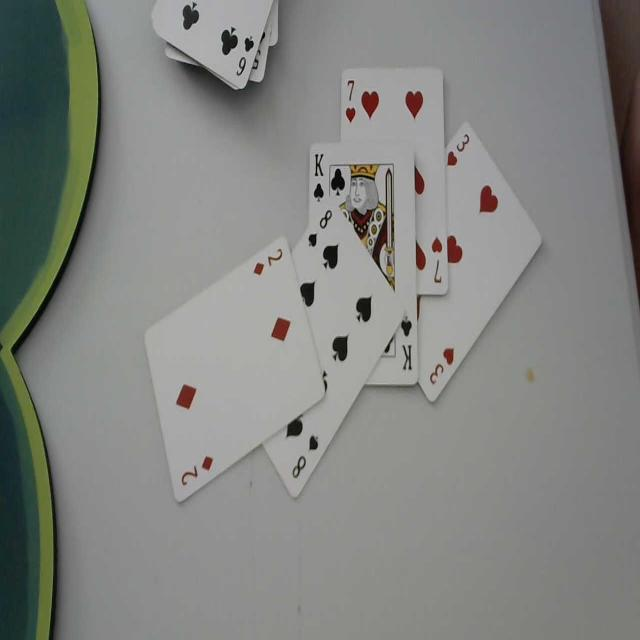2D: (254, 245, 284, 278)
3H: (428, 345, 456, 387), (446, 132, 472, 175)
6C: (234, 30, 258, 80)
7H: (430, 233, 446, 288), (344, 76, 357, 126)
8S: (288, 431, 322, 476), (307, 209, 333, 252)
BACK: (177, 453, 217, 491)
KC: (396, 313, 414, 375), (312, 150, 325, 206)
